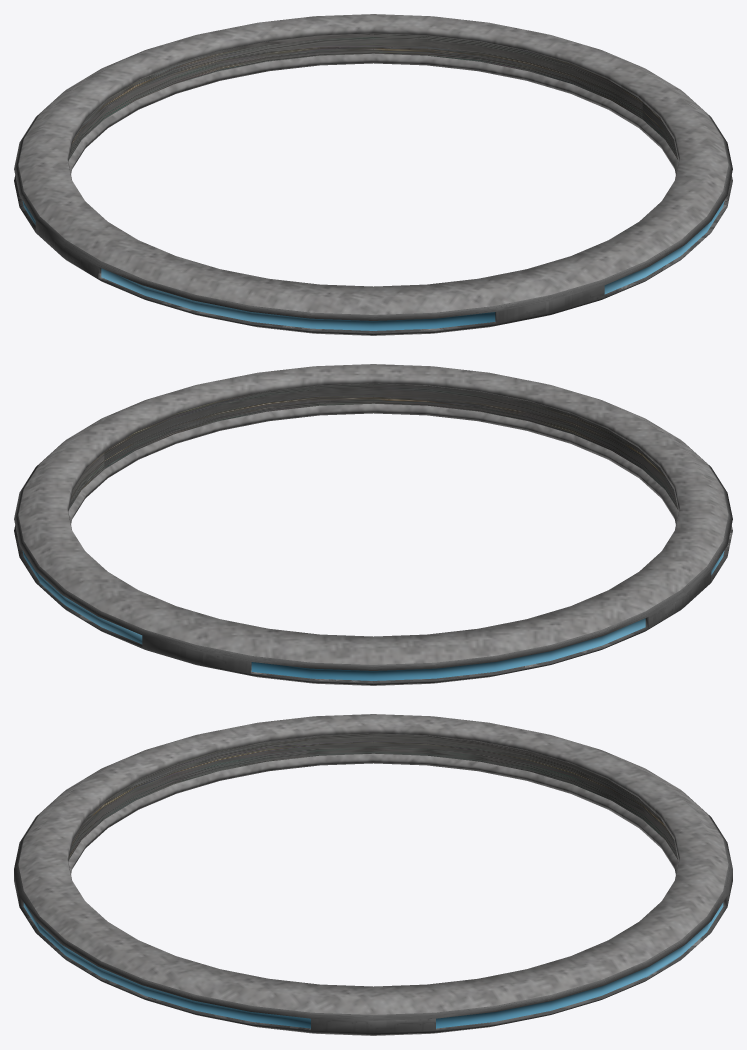
The model's file is Anneaux.FBX.
3 renders of one model, top to bottom at view 1: azimuth 30°, elevation 25°; view 2: azimuth 150°, elevation 25°; view 3: azimuth 270°, elevation 25°, orthographic.
Parts seen in each view (by area): view 1: Tube_2; view 2: Tube_2; view 3: Tube_2.
Part boxes in pixels (x1=…): Tube_2: x1=14, y1=14, x2=732, y2=335; Tube_2: x1=14, y1=364, x2=732, y2=685; Tube_2: x1=14, y1=714, x2=732, y2=1035.
Bounding box in the file's own units: 41150 × 2286 × 41150.
